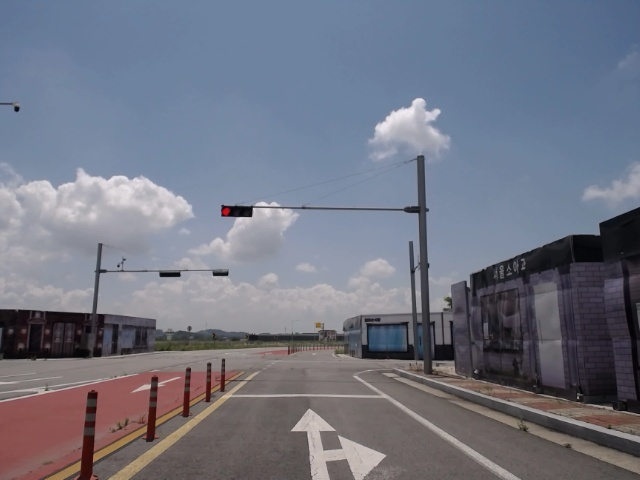red_3: (218, 203, 254, 219)
